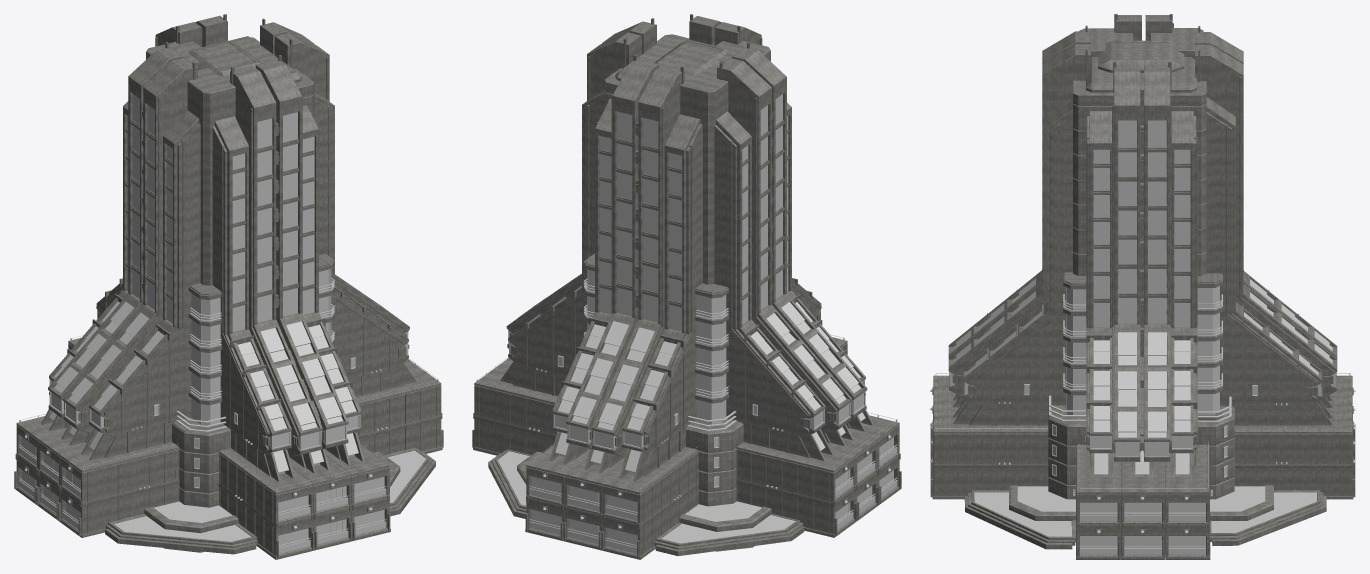
File: Kitbash3D_Brutalist_Building_Mega03.fbx
3 views of the same model, side by side, from view 1: azimuth 30°, elevation 25°; view 2: azimuth 150°, elevation 25°; view 3: azimuth 270°, elevation 25° (orthographic).
Parts seen in each view (by area): view 1: XL_Bldg_E_Bldg_Wings, XL_Bldg_E_WindowsGlass, XL_Bldg_E_Bldg_Main, XL_Bldg_E_Bldg_Conc_Shields, XL_Bldg_E_Mullions_Frames_Rails, XL_Bldg_E_Water, XL_Bldg_E_Base_Fountain, XL_Bldg_E_Bldg_Corner, XL_Bldg_E_ConcFormNoHoles; view 2: XL_Bldg_E_Bldg_Wings, XL_Bldg_E_WindowsGlass, XL_Bldg_E_Bldg_Main, XL_Bldg_E_Bldg_Conc_Shields, XL_Bldg_E_Mullions_Frames_Rails, XL_Bldg_E_Water, XL_Bldg_E_Base_Fountain, XL_Bldg_E_Bldg_Corner, XL_Bldg_E_ConcFormNoHoles; view 3: XL_Bldg_E_Bldg_Wings, XL_Bldg_E_WindowsGlass, XL_Bldg_E_Bldg_Main, XL_Bldg_E_Bldg_Conc_Shields, XL_Bldg_E_Water, XL_Bldg_E_Mullions_Frames_Rails, XL_Bldg_E_Base_Fountain, XL_Bldg_E_Bldg_Corner, XL_Bldg_E_ConcFormNoHoles.
Boxes of the visible parts, x1=… form: XL_Bldg_E_Bldg_Wings: x1=14, y1=14, x2=443, y2=559; XL_Bldg_E_WindowsGlass: x1=22, y1=94, x2=384, y2=547; XL_Bldg_E_Bldg_Main: x1=146, y1=36, x2=314, y2=507; XL_Bldg_E_Bldg_Conc_Shields: x1=19, y1=301, x2=386, y2=553; XL_Bldg_E_Mullions_Frames_Rails: x1=19, y1=269, x2=438, y2=548; XL_Bldg_E_Water: x1=114, y1=450, x2=425, y2=541; XL_Bldg_E_Base_Fountain: x1=105, y1=447, x2=435, y2=554; XL_Bldg_E_Bldg_Corner: x1=188, y1=254, x2=334, y2=405; XL_Bldg_E_ConcFormNoHoles: x1=144, y1=451, x2=400, y2=552; XL_Bldg_E_Bldg_Wings: x1=472, y1=14, x2=901, y2=559; XL_Bldg_E_WindowsGlass: x1=531, y1=94, x2=893, y2=547; XL_Bldg_E_Bldg_Main: x1=604, y1=34, x2=770, y2=506; XL_Bldg_E_Bldg_Conc_Shields: x1=529, y1=302, x2=897, y2=553; XL_Bldg_E_Mullions_Frames_Rails: x1=476, y1=270, x2=897, y2=553; XL_Bldg_E_Water: x1=498, y1=451, x2=795, y2=543; XL_Bldg_E_Base_Fountain: x1=488, y1=449, x2=804, y2=556; XL_Bldg_E_Bldg_Corner: x1=583, y1=253, x2=728, y2=403; XL_Bldg_E_ConcFormNoHoles: x1=517, y1=451, x2=771, y2=551; XL_Bldg_E_Bldg_Wings: x1=930, y1=14, x2=1355, y2=559; XL_Bldg_E_WindowsGlass: x1=953, y1=120, x2=1332, y2=548; XL_Bldg_E_Bldg_Main: x1=1048, y1=28, x2=1234, y2=499; XL_Bldg_E_Bldg_Conc_Shields: x1=956, y1=279, x2=1329, y2=554; XL_Bldg_E_Water: x1=974, y1=486, x2=1316, y2=536; XL_Bldg_E_Mullions_Frames_Rails: x1=930, y1=286, x2=1355, y2=554; XL_Bldg_E_Base_Fountain: x1=964, y1=490, x2=1326, y2=549; XL_Bldg_E_Bldg_Corner: x1=1063, y1=272, x2=1222, y2=395; XL_Bldg_E_ConcFormNoHoles: x1=1009, y1=485, x2=1273, y2=520.
Size of the model in its own units: 77.31 by 89.15 by 77.31.
